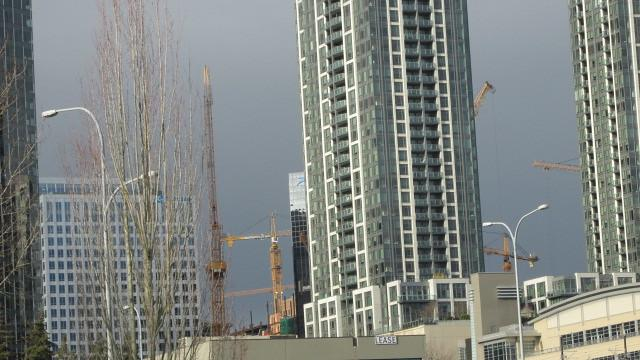building: (290, 3, 490, 347)
